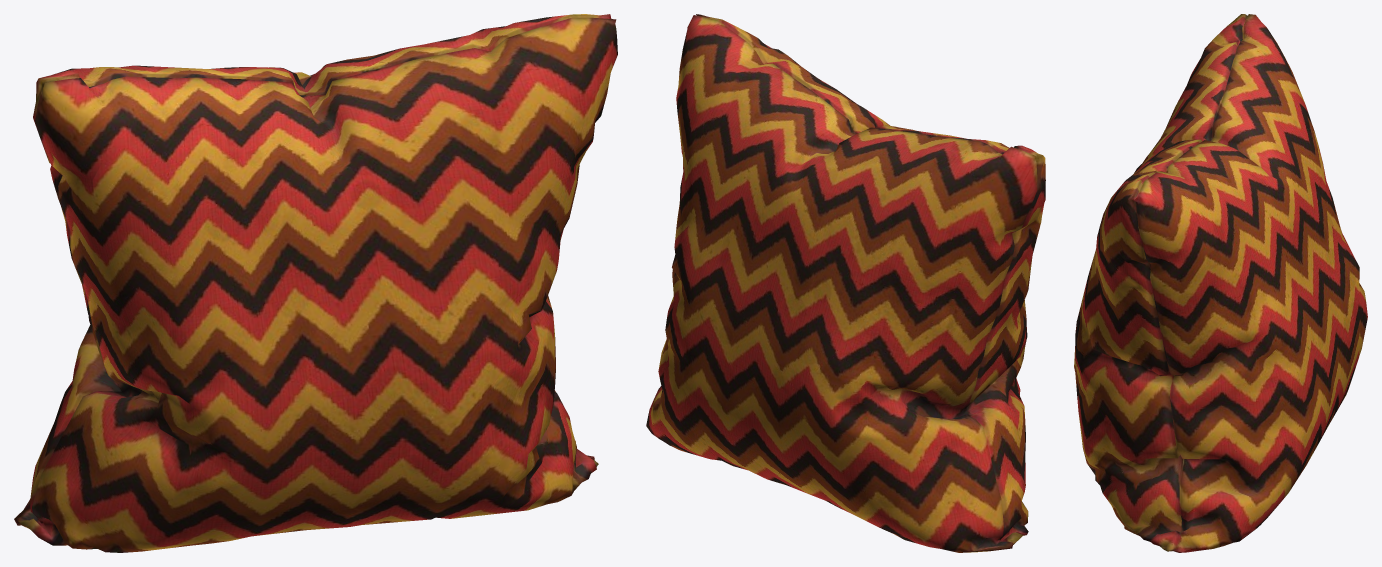
File: pillow1.glb
3 views of the same model, side by side, from view 1: azimuth 30°, elevation 25°; view 2: azimuth 150°, elevation 25°; view 3: azimuth 270°, elevation 25° (orthographic). The views are drawn at different scales.
Visible parts, largest first — view 1: throw_pillows_01_pillow02; view 2: throw_pillows_01_pillow02; view 3: throw_pillows_01_pillow02.
Part boxes in pixels (box(x1,y1,x2,y2)): throw_pillows_01_pillow02: box(14, 14, 617, 552); throw_pillows_01_pillow02: box(646, 14, 1045, 552); throw_pillows_01_pillow02: box(1074, 14, 1367, 552).
Size of the model in its own units: 0.502 by 0.4426 by 0.3301.
Materials: 1 (1 with a texture image).
